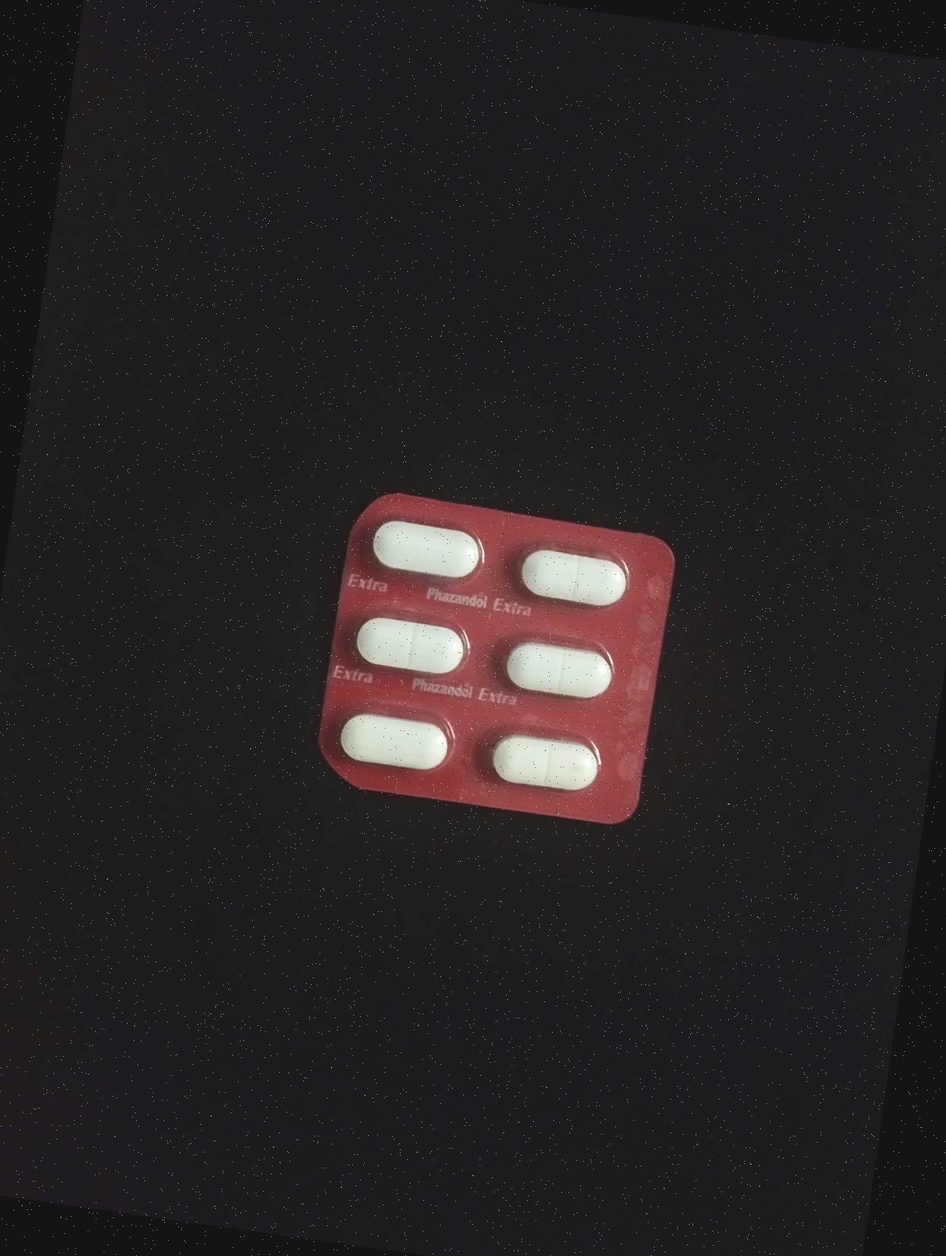Full: (493, 632, 631, 708), (347, 607, 478, 685), (510, 534, 635, 613), (367, 511, 488, 591), (482, 725, 606, 800), (326, 703, 452, 776)
